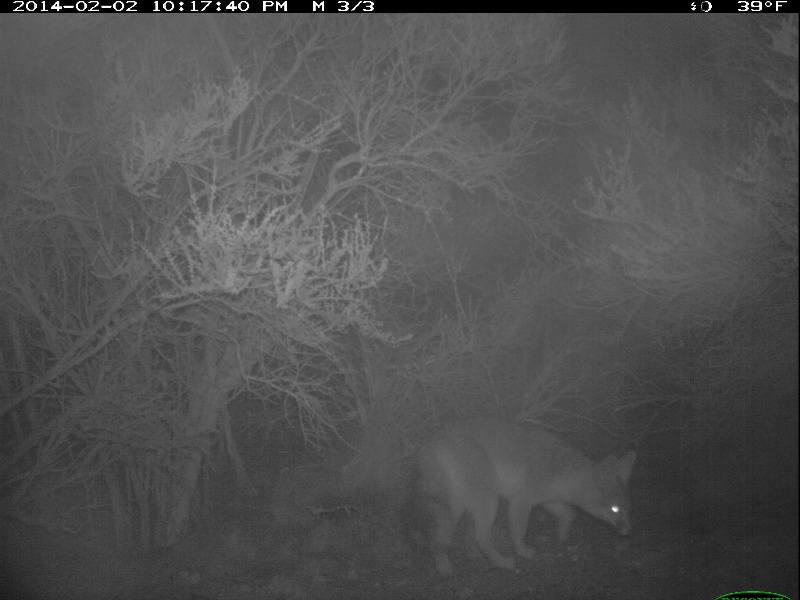coyote: (404, 413, 641, 573)
